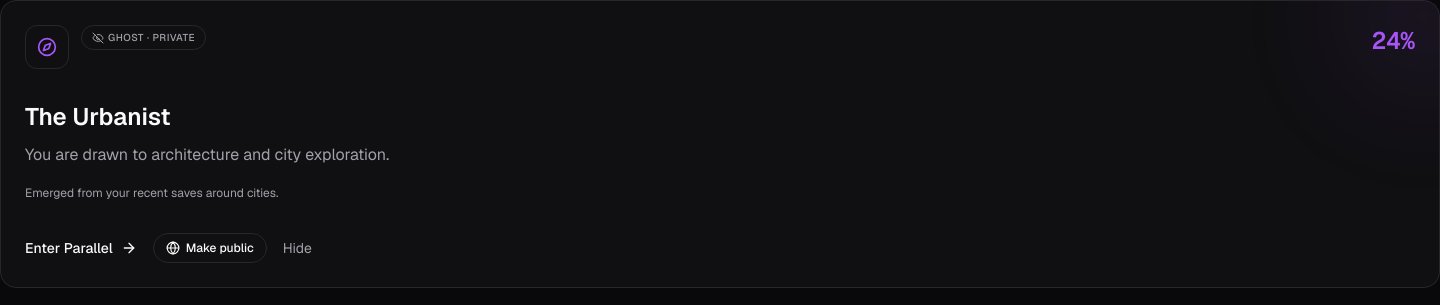
ParallelCard Ghost Mode visibility controls › shows loading state and prevents repeated submissions while publishing
This screenshot has width=1440, height=305.
Later steps or results of the test are not shown.
Click the button "Make public" at (210, 248), box 153,233 -> 267,263
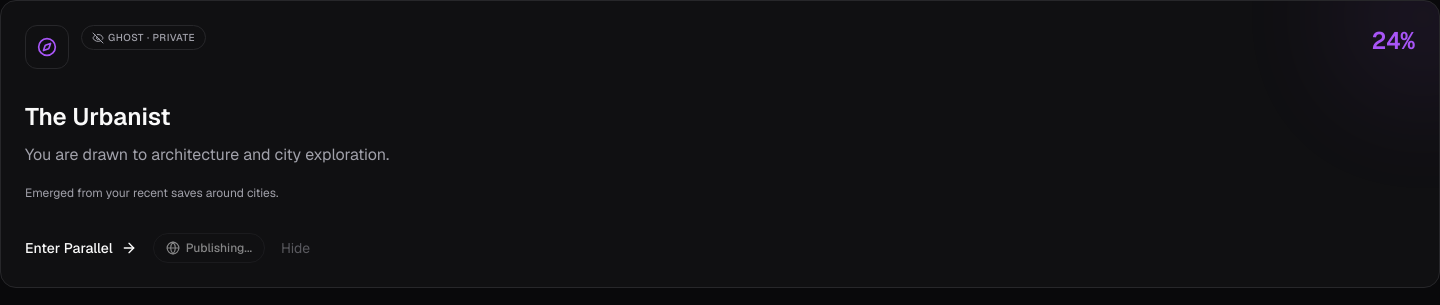
expect the button "Publishing..." is disabled: met, box 153,233 -> 265,263
